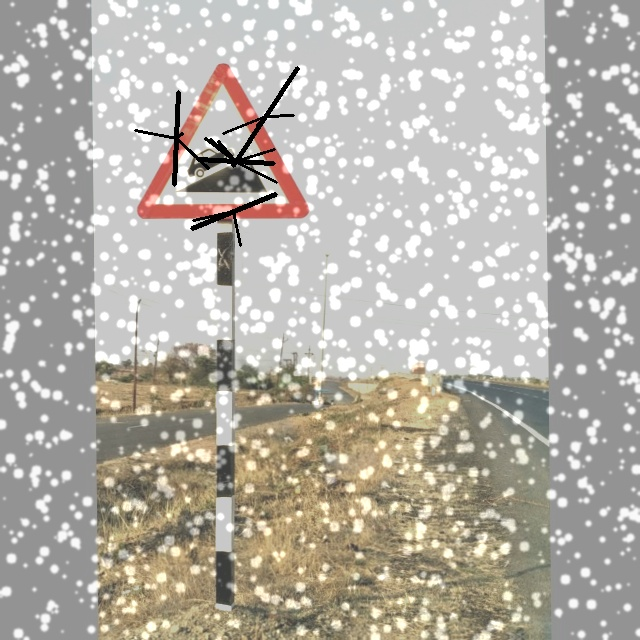Steep_Ascent: (132, 63, 311, 229)
